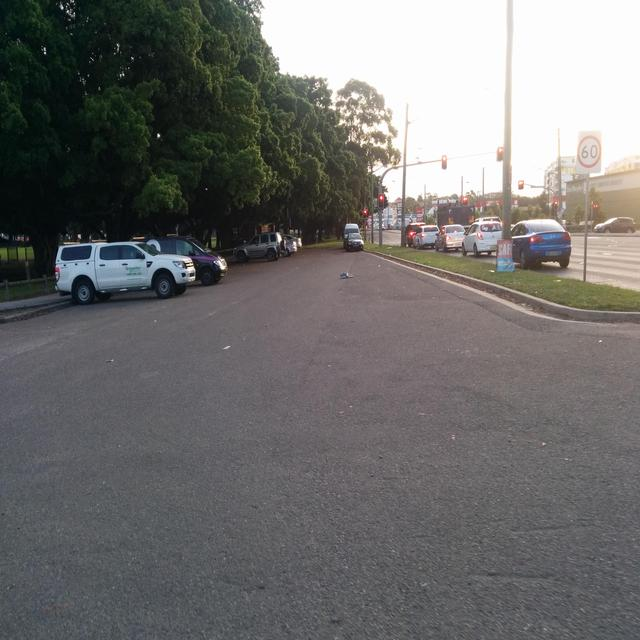Barrier: (587, 233, 639, 236)
Billboard: (384, 207, 421, 230)
Car: (55, 234, 228, 304), (405, 215, 571, 269), (232, 231, 301, 262), (594, 217, 635, 232), (342, 223, 363, 251)
Vegetation: (373, 157, 459, 213), (426, 190, 547, 224)
